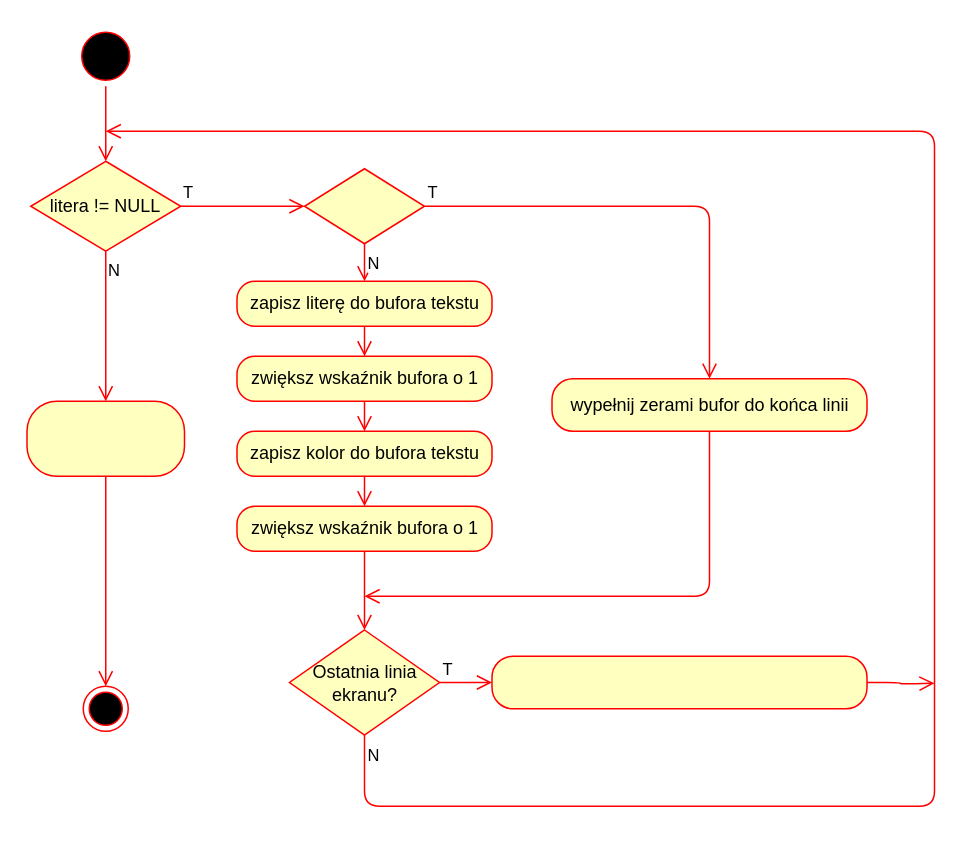
Image size: 975x848. Some labels were removed from this diagram. Each missing label, with the centre of its shape:
"litera == \n" goes at [363,205].
"przesuń kursor za ostatnią literę" goes at [105,438].
"przesuń wszystkie linie o jedną linię w górę" goes at [678,682].
